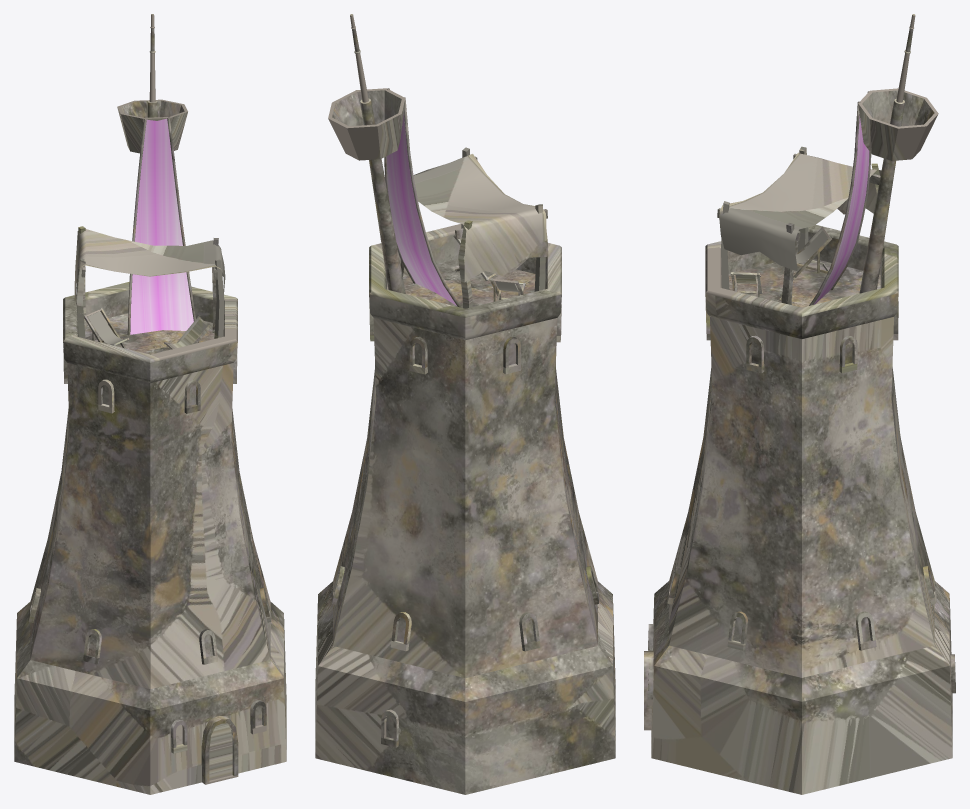
Rendered from Tower.fbx.
3 views of the same model, side by side, from view 1: azimuth 30°, elevation 25°; view 2: azimuth 150°, elevation 25°; view 3: azimuth 270°, elevation 25° (orthographic). The views are drawn at different scales.
Parts seen in each view (by area): view 1: Tower_main; view 2: Tower_main; view 3: Tower_main.
Part boxes in pixels (<box>): Tower_main: <box>14,14,286,794</box>; Tower_main: <box>315,14,615,794</box>; Tower_main: <box>644,14,955,794</box>.
Size of the model in its own units: 746 by 1742 by 669.
